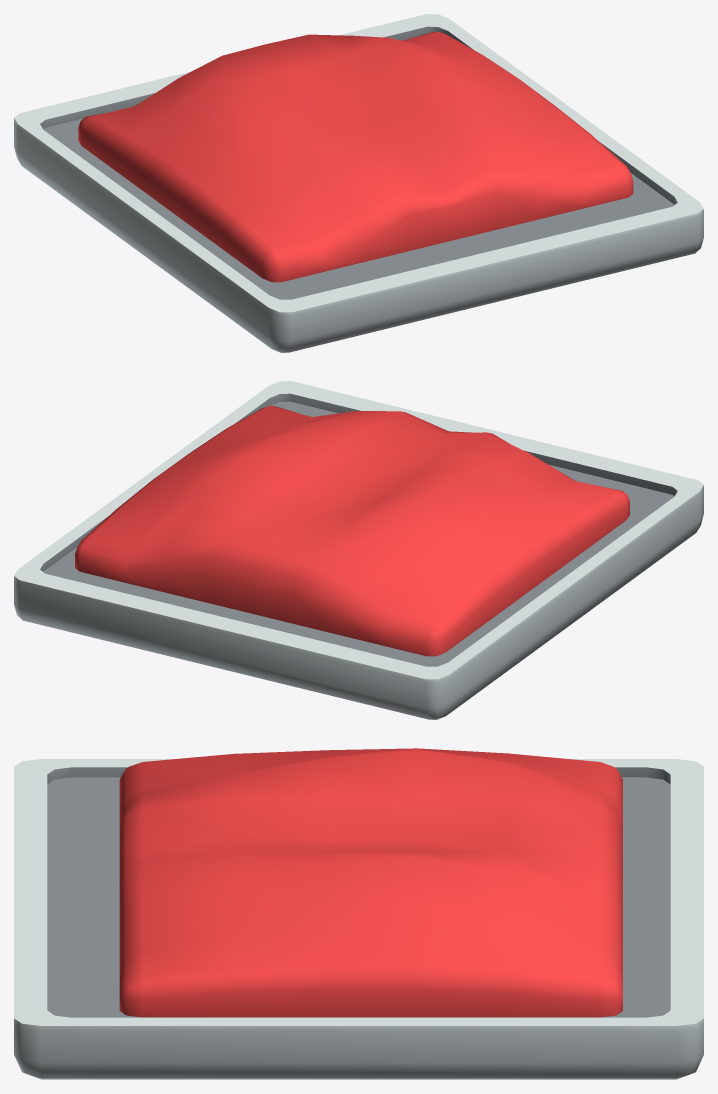
3 views of the same model, one above another, from view 1: azimuth 30°, elevation 25°; view 2: azimuth 150°, elevation 25°; view 3: azimuth 270°, elevation 25° (orthographic). The views are drawn at different scales.
Parts seen in each view (by area): view 1: Fabric, GlassBottom; view 2: Fabric, GlassBottom; view 3: Fabric, GlassBottom.
Part boxes in pixels (x1,y1,x2,y2): Fabric: (78, 32, 633, 282); GlassBottom: (14, 14, 703, 352); Fabric: (75, 406, 629, 656); GlassBottom: (14, 381, 703, 719); Fabric: (119, 748, 622, 1017); GlassBottom: (14, 759, 703, 1079).
Size of the model in its own units: 1.32 by 0.3485 by 1.45.
